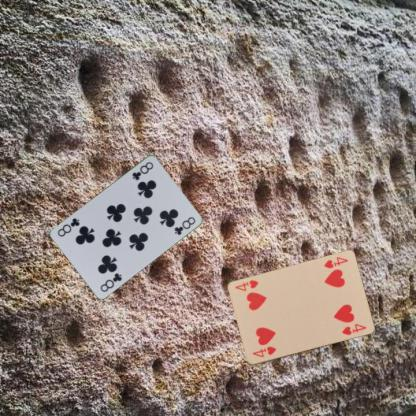4h: (321, 255, 349, 270), (250, 344, 277, 359)
8c: (98, 270, 123, 293), (129, 159, 155, 181)
